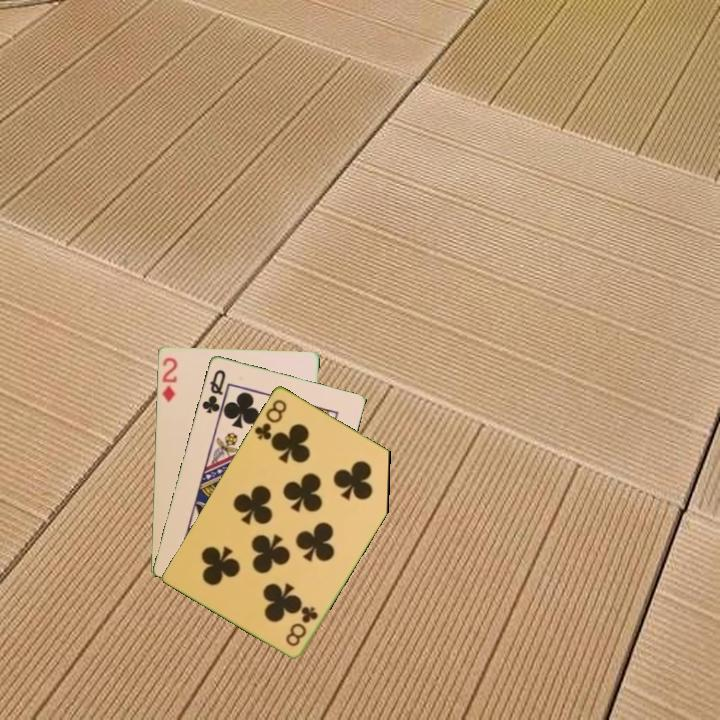2d: (158, 354, 180, 405)
8c: (251, 395, 290, 443), (282, 602, 321, 649)
Qc: (198, 365, 228, 416)
